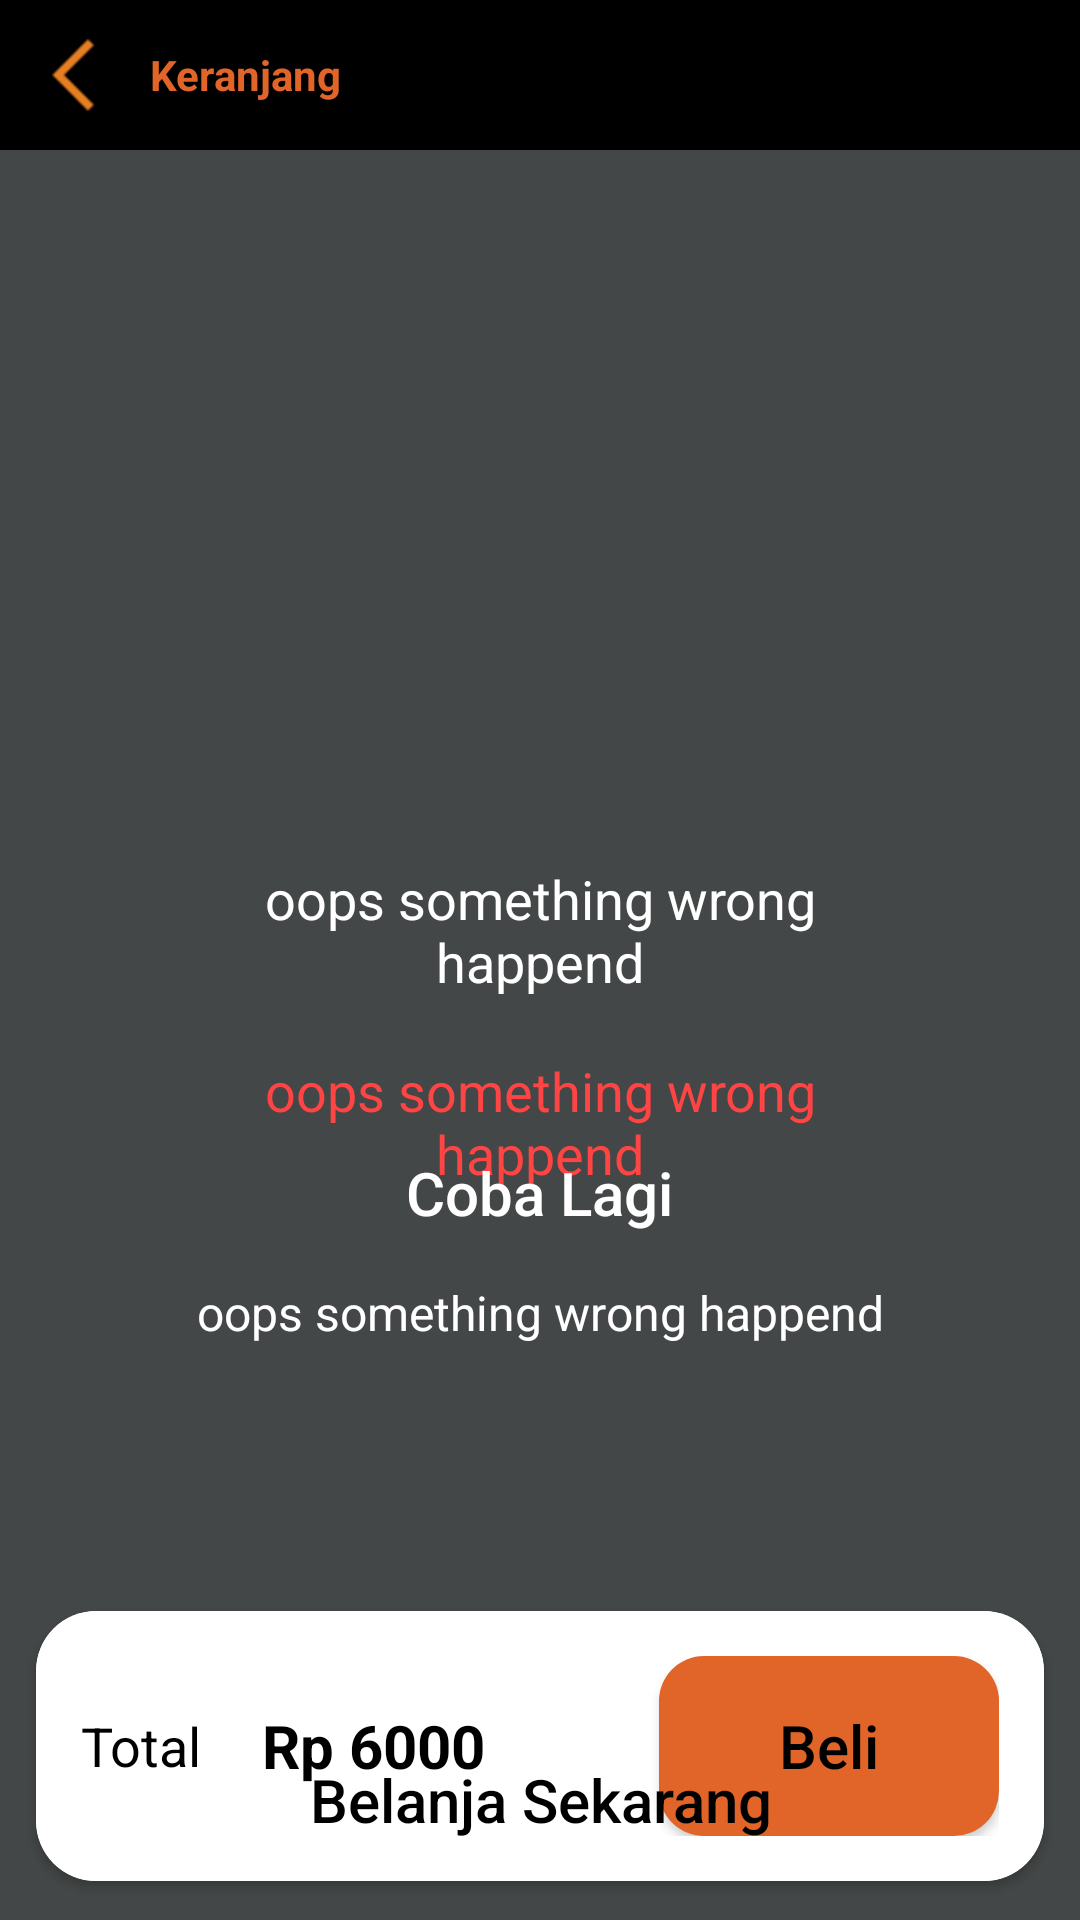

Where icons sit on this 1080px x 1920px app screen, as BBox(x1, y1, x2, y2):
back: BBox(52, 39, 94, 111)
